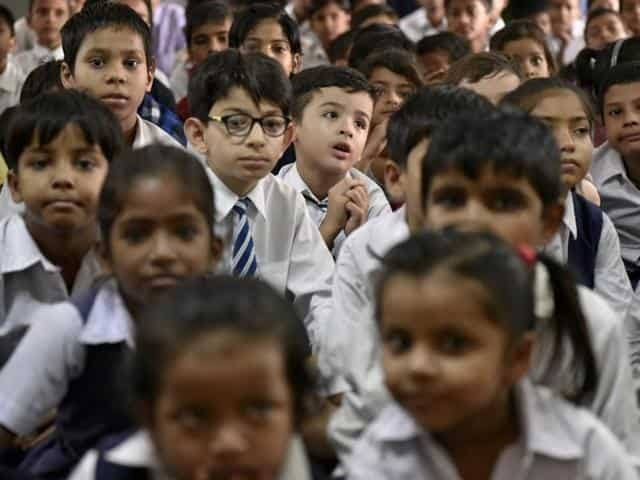student: (367, 246, 559, 450), (133, 298, 311, 480), (416, 114, 550, 271), (91, 160, 235, 304), (378, 88, 487, 233), (7, 100, 131, 225), (186, 63, 290, 183), (505, 71, 606, 182), (61, 18, 153, 110), (289, 67, 371, 164), (490, 28, 587, 90), (231, 8, 315, 75), (351, 46, 422, 121), (599, 61, 640, 143)
